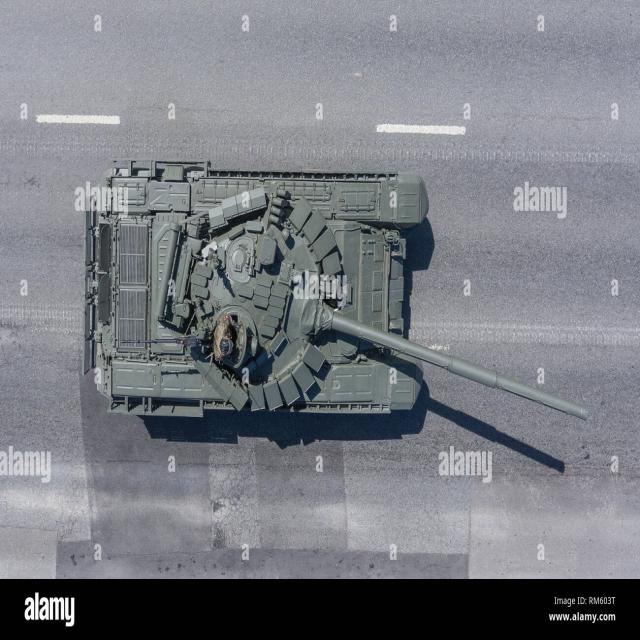tank: (75, 158, 599, 435)
